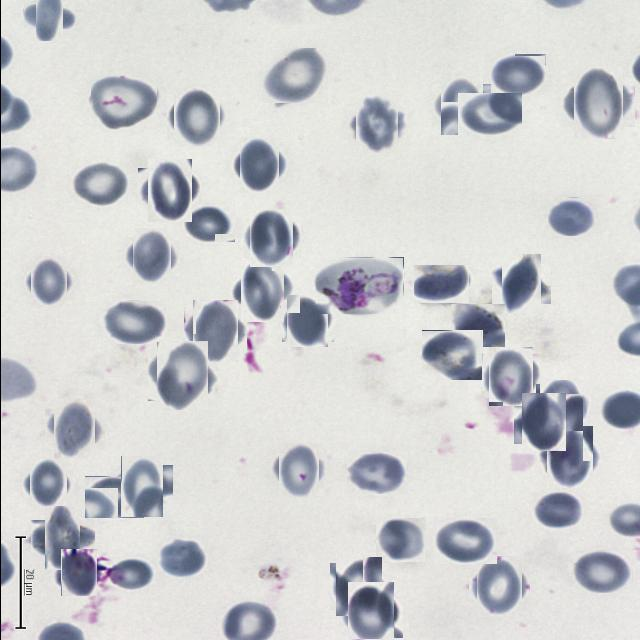red blood cell: (566, 72, 628, 134), (90, 74, 156, 132), (262, 47, 328, 103), (152, 346, 212, 406), (421, 330, 482, 380), (343, 586, 398, 640), (235, 263, 289, 317), (472, 560, 526, 614), (142, 164, 196, 218), (188, 304, 242, 358), (542, 430, 596, 484), (433, 518, 496, 564), (102, 300, 167, 344), (457, 94, 521, 138), (332, 560, 385, 613), (170, 90, 222, 144), (484, 350, 536, 402), (115, 460, 167, 512), (516, 396, 568, 448), (346, 451, 407, 494), (246, 212, 296, 264), (572, 550, 632, 593), (70, 162, 128, 206), (49, 404, 100, 454), (84, 476, 144, 518), (352, 100, 402, 150), (496, 259, 546, 309), (36, 513, 86, 563), (436, 80, 486, 130), (490, 53, 546, 95), (450, 304, 504, 347), (274, 446, 322, 494), (536, 382, 584, 430), (235, 142, 282, 190), (128, 232, 174, 280), (375, 518, 425, 562), (284, 298, 330, 344), (413, 265, 468, 303), (531, 492, 585, 530), (182, 203, 234, 242), (156, 539, 207, 578), (547, 197, 597, 236), (26, 260, 70, 304), (25, 462, 69, 505), (58, 552, 100, 594), (107, 558, 155, 592), (29, 0, 68, 35)
trophozoite: (315, 257, 403, 314)
